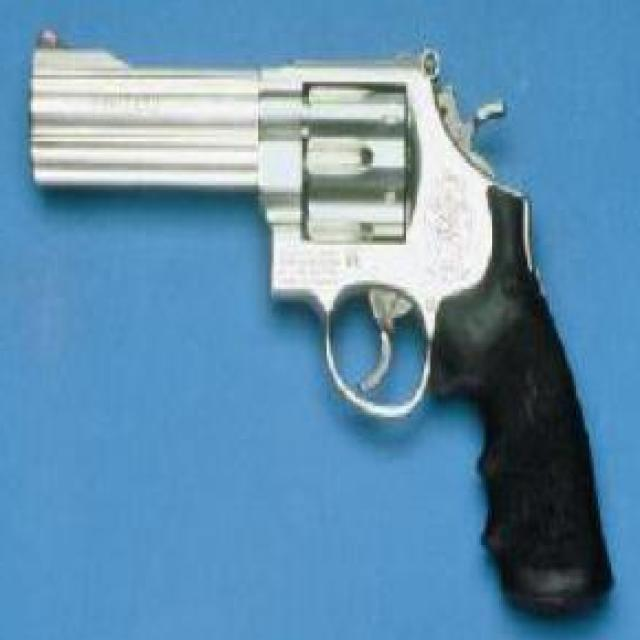pistol: (35, 22, 622, 615)
